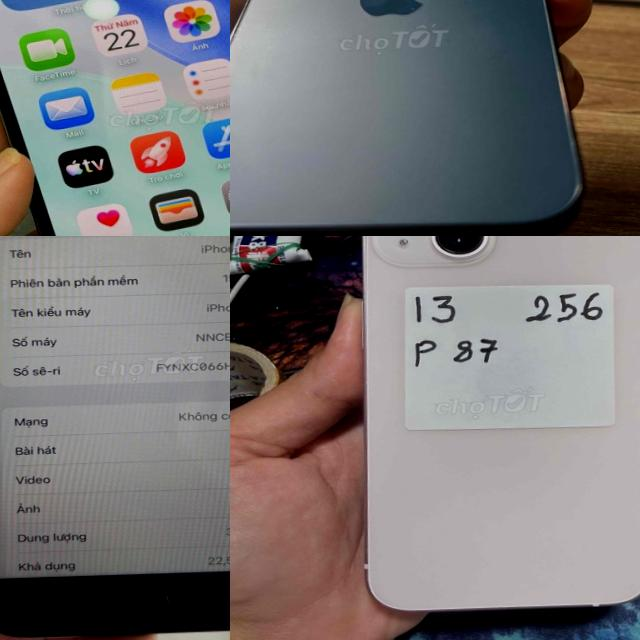gen_12_13: (342, 236, 640, 625), (230, 0, 596, 236), (0, 0, 230, 236)
gen_6: (0, 236, 230, 640)
scratch: (108, 580, 174, 628)
